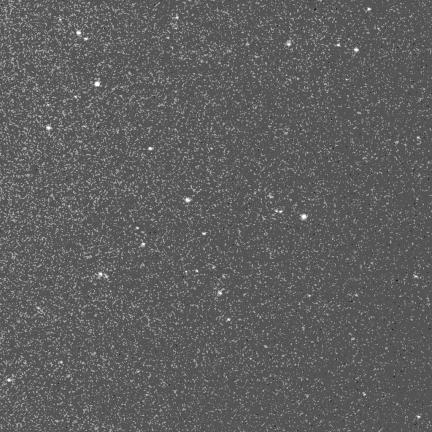blob: (301, 214, 307, 220), (286, 41, 292, 47), (46, 126, 52, 131), (184, 198, 191, 202), (76, 30, 81, 35), (95, 81, 100, 86), (354, 48, 359, 52), (141, 243, 146, 247), (148, 147, 153, 151), (7, 378, 11, 382), (218, 291, 222, 295), (202, 232, 207, 235), (195, 270, 199, 273), (367, 8, 371, 11), (74, 96, 78, 99), (59, 361, 63, 364), (336, 43, 340, 46), (99, 273, 102, 276), (417, 136, 420, 139), (84, 38, 88, 40)
